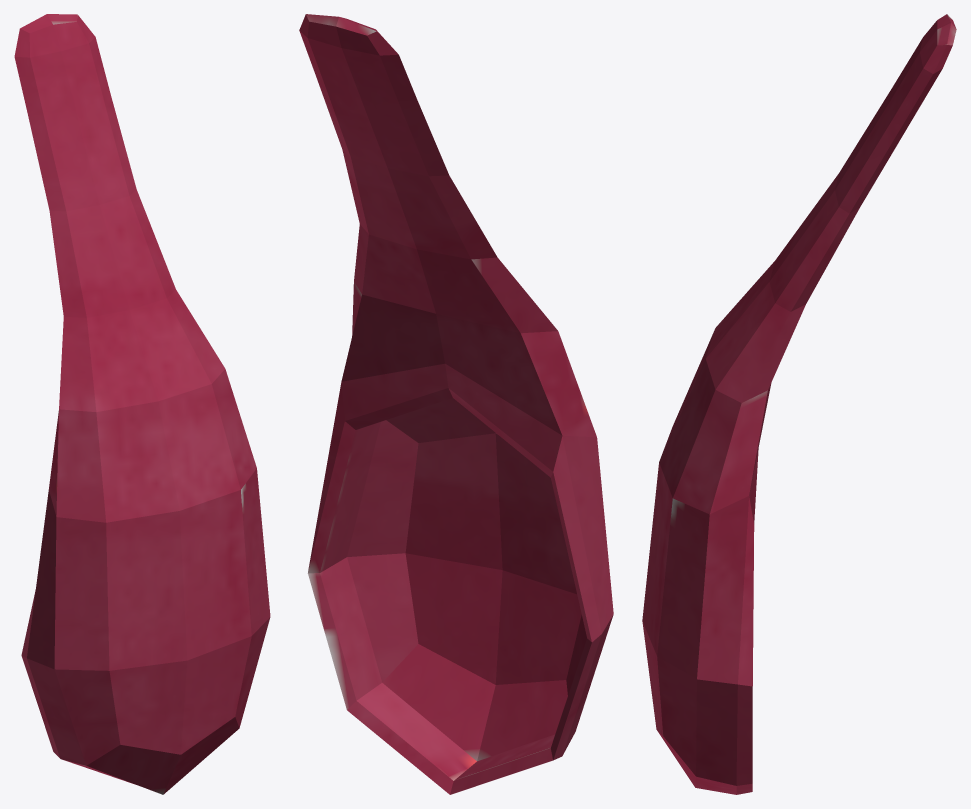
The model's file is BigSpoon.fbx.
3 renders of one model, left to right at view 1: azimuth 30°, elevation 25°; view 2: azimuth 150°, elevation 25°; view 3: azimuth 270°, elevation 25°, orthographic. The views are drawn at different scales.
Visible parts, largest first — view 1: Cube.001; view 2: Cube.001; view 3: Cube.001.
Boxes of the visible parts, x1,y1,x2,y2 form: Cube.001: (14, 14, 270, 794); Cube.001: (299, 14, 613, 794); Cube.001: (642, 14, 956, 794).
Size of the model in its own units: 60 by 172 by 63.45.
